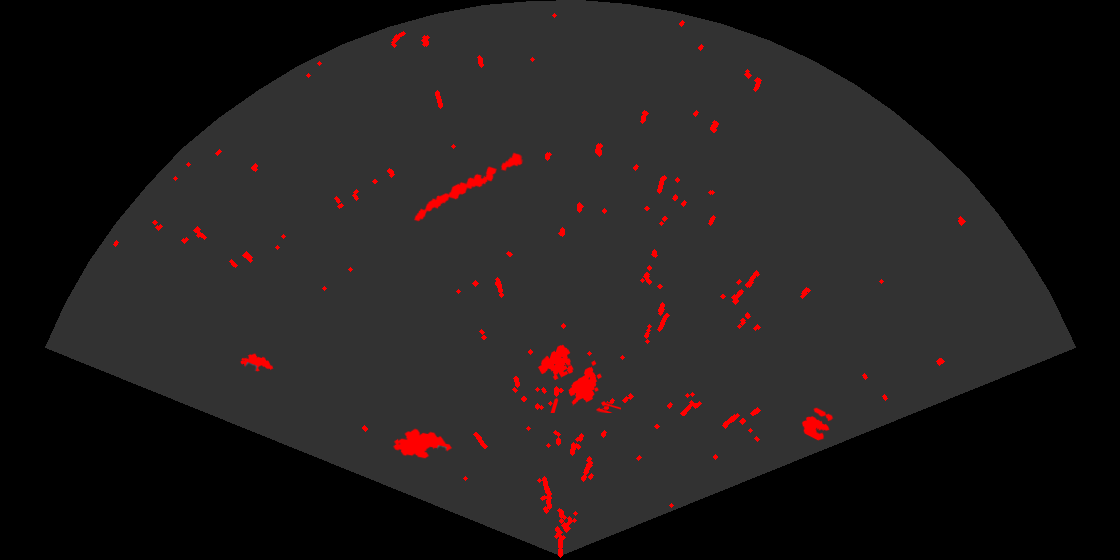AUV: (391, 427, 454, 460), (238, 352, 275, 373)
ball: (800, 406, 835, 442)
cage: (536, 343, 621, 413)
chain: (412, 151, 525, 223)
